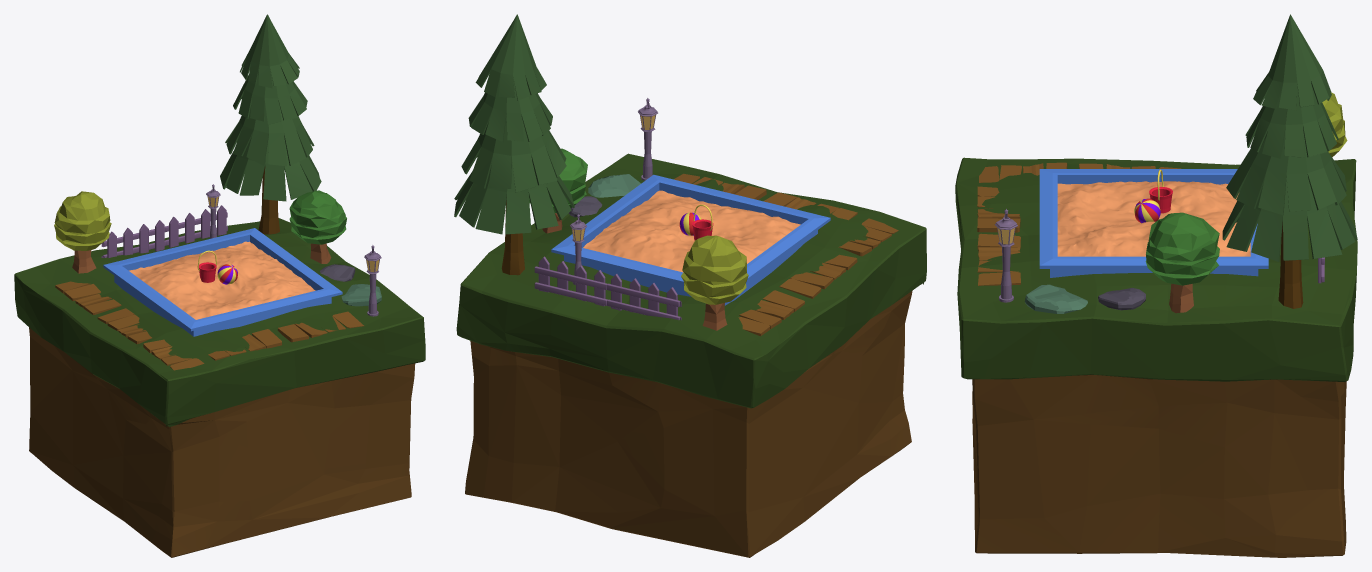
The model's file is tile_sandbox.min.gltf.
3 renders of one model, left to right at view 1: azimuth 30°, elevation 25°; view 2: azimuth 150°, elevation 25°; view 3: azimuth 270°, elevation 25°, orthographic. The views are drawn at different scales.
Visible parts, largest first — view 1: CENTERED.023; view 2: CENTERED.023; view 3: CENTERED.023.
Part boxes in pixels (box(x1,y1,x2,y2)): CENTERED.023: box(14, 14, 425, 557); CENTERED.023: box(454, 14, 926, 557); CENTERED.023: box(955, 14, 1357, 557).
Size of the model in its own units: 1.13 by 1.57 by 1.09.
